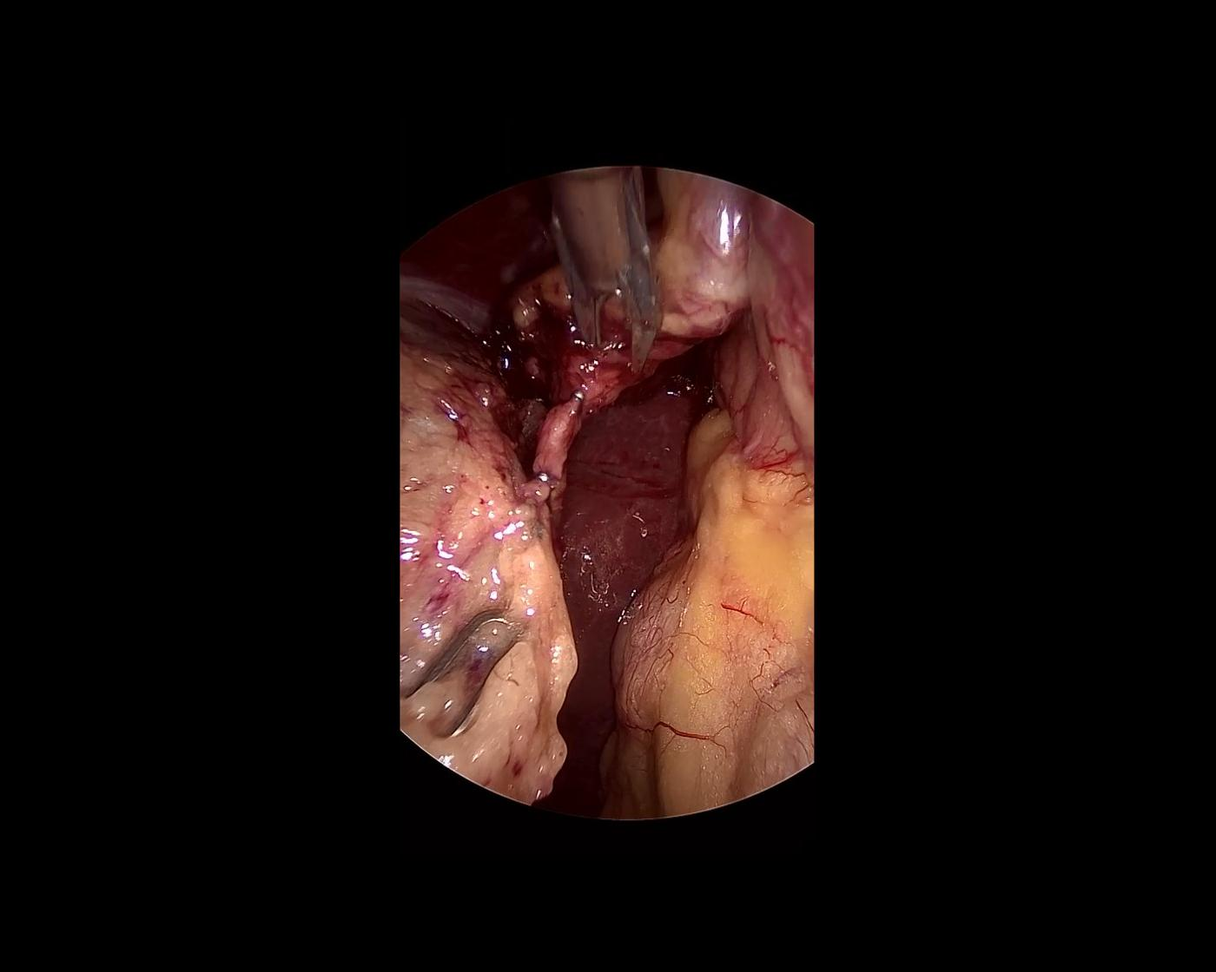Forceps: (384, 580, 542, 758)
Gallbladder: (398, 345, 577, 801)
Liver: (483, 319, 721, 821), (398, 181, 568, 411)
